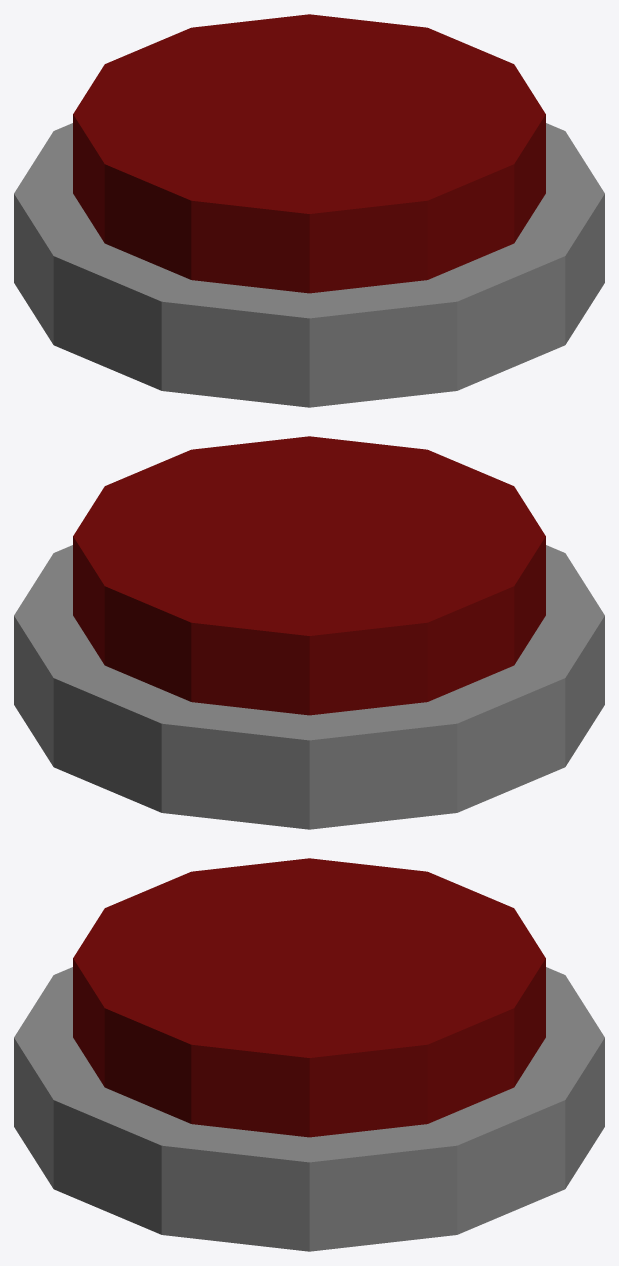
Rendered from Button.fbx.
The picture shows the model from 3 angles, top to bottom: view 1: azimuth 30°, elevation 25°; view 2: azimuth 150°, elevation 25°; view 3: azimuth 270°, elevation 25°; orthographic projection.
Parts seen in each view (by area): view 1: Button, ButtonBase; view 2: Button, ButtonBase; view 3: Button, ButtonBase.
Boxes of the visible parts, x1=… form: Button: x1=73, y1=14, x2=545, y2=293; ButtonBase: x1=14, y1=123, x2=604, y2=407; Button: x1=73, y1=436, x2=545, y2=715; ButtonBase: x1=14, y1=545, x2=604, y2=829; Button: x1=73, y1=858, x2=545, y2=1137; ButtonBase: x1=14, y1=967, x2=604, y2=1251.
Size of the model in its own units: 30 by 30 by 9.44.
